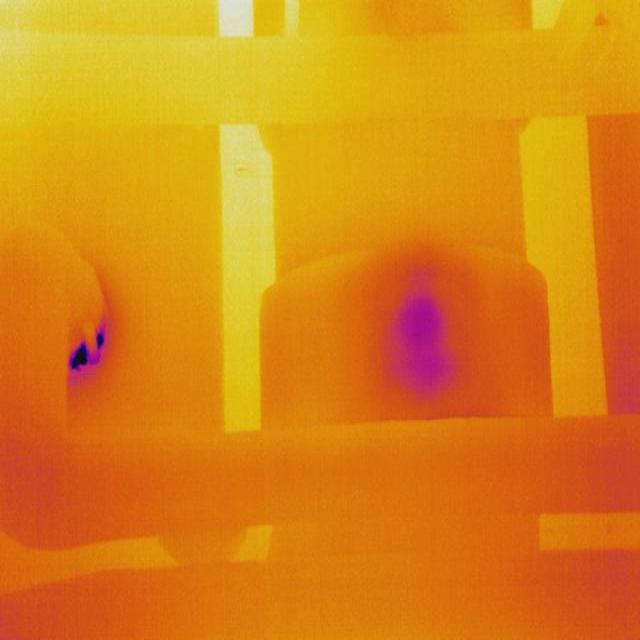leakage: (379, 286, 460, 400), (68, 326, 113, 380)
